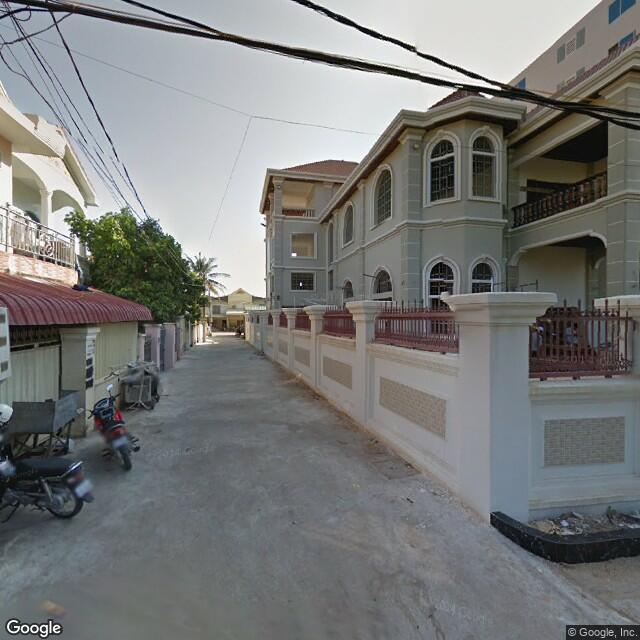litter: (36, 588, 65, 623), (557, 517, 577, 529)
